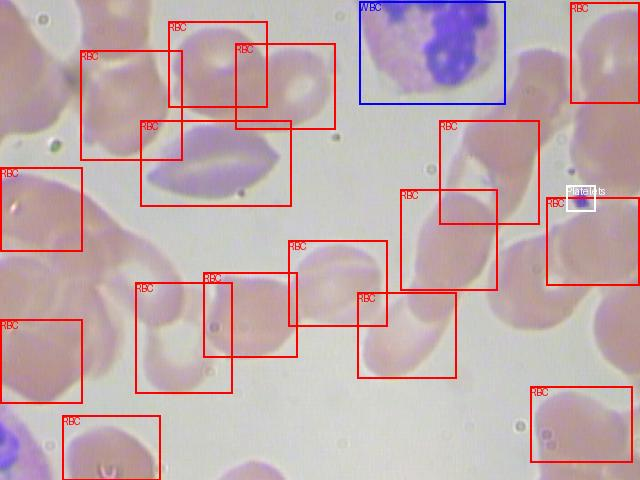Platelets: (566, 185, 595, 211)
RBC: (140, 120, 291, 206), (80, 50, 182, 160), (135, 282, 232, 393), (439, 120, 539, 224), (400, 189, 497, 290), (235, 43, 335, 129), (357, 292, 456, 378), (288, 240, 387, 326), (168, 21, 267, 107), (546, 197, 639, 285), (203, 272, 297, 357), (530, 386, 632, 462), (570, 2, 639, 103), (0, 167, 82, 251), (0, 319, 82, 403), (62, 415, 160, 480)
WBC: (359, 1, 505, 104)
